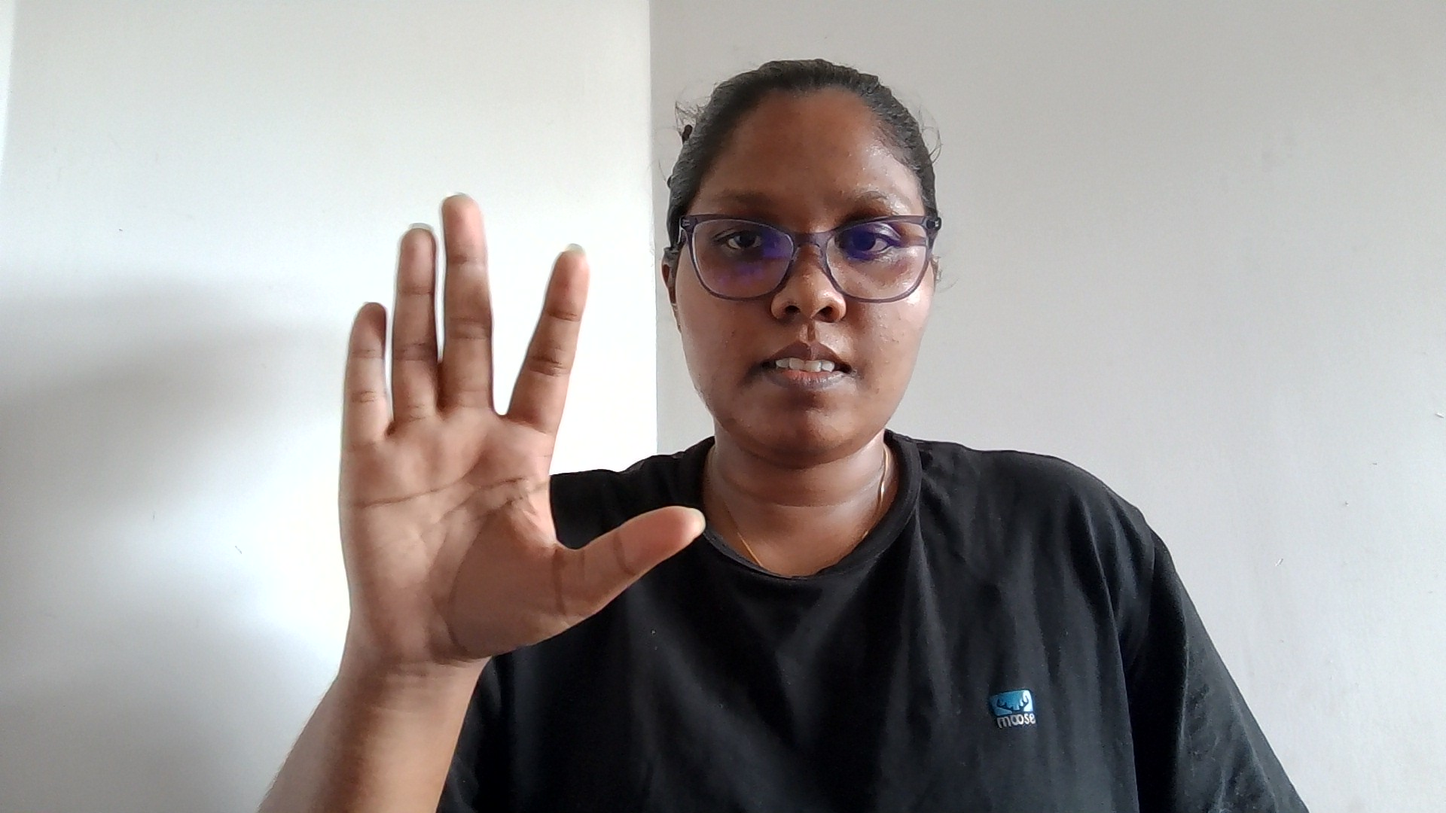Hello: (220, 138, 710, 713)
